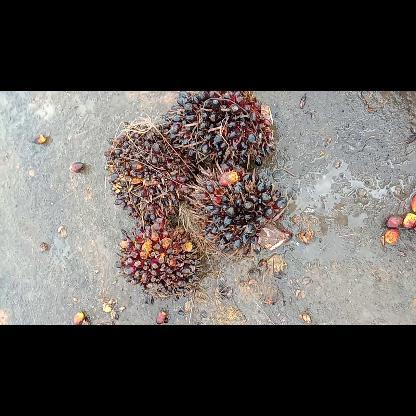TBS abnormal: (183, 160, 291, 256), (162, 90, 278, 174)
TBS masak: (103, 119, 201, 221), (114, 214, 214, 296)
